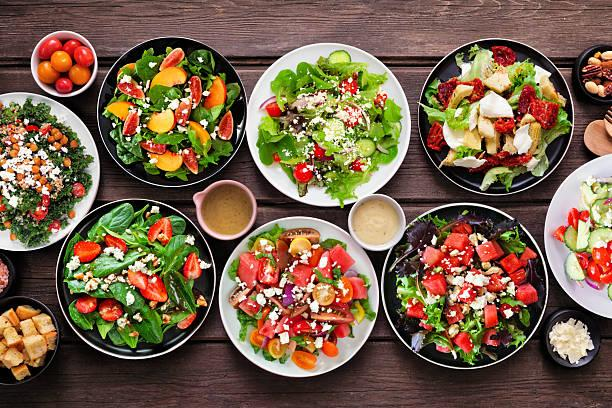Braised Crucian Carp: (383, 202, 547, 368), (242, 43, 405, 206), (217, 217, 376, 377), (55, 200, 211, 358), (418, 39, 573, 195), (96, 37, 243, 187), (346, 193, 405, 249)
